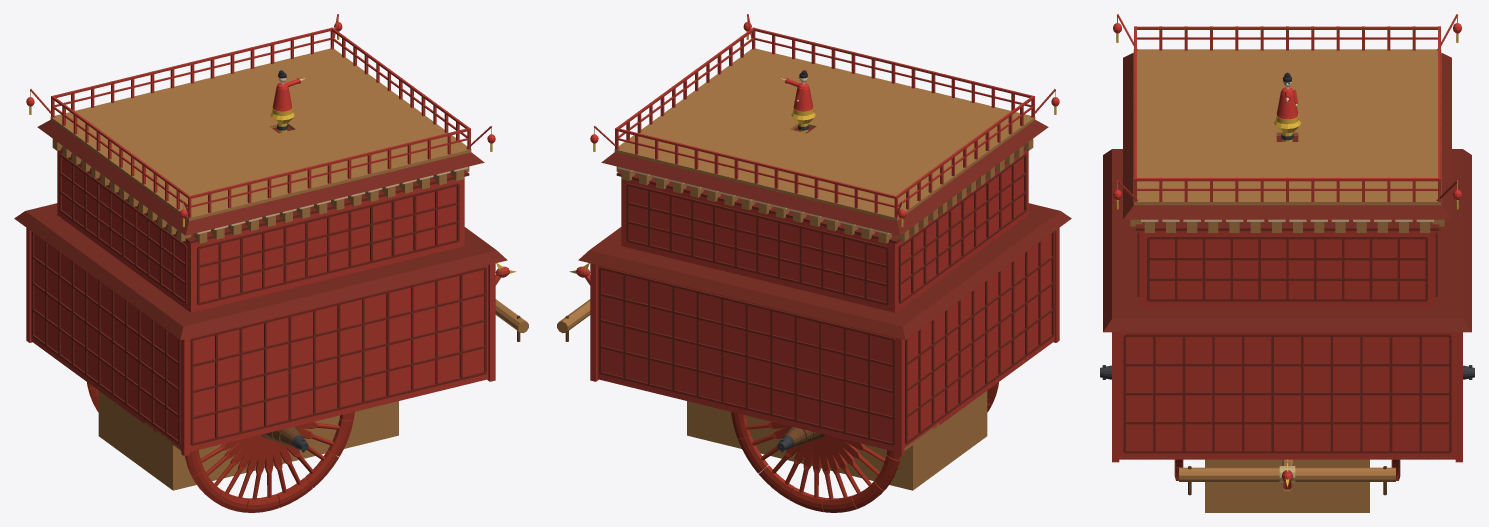
Rendered from chariot-song.glb.
The picture shows the model from 3 angles, left to right: view 1: azimuth 30°, elevation 25°; view 2: azimuth 150°, elevation 25°; view 3: azimuth 270°, elevation 25°; orthographic projection. The views are drawn at different scales.
Visible parts, largest first — view 1: body.tier, body.top, body.side.R, body.end.B, wheel.R, body.end.F, body.pole, figure; view 2: body.tier, body.top, body.side.L, body.end.B, wheel.L, body.end.F, body.pole, figure; view 3: body.tier, body.end.F, body.top, body.pole, figure.
Part boxes in pixels (x1=…): body.tier: x1=14, y1=120, x2=507, y2=340; body.top: x1=26, y1=14, x2=495, y2=226; body.side.R: x1=144, y1=265, x2=488, y2=489; body.end.B: x1=26, y1=228, x2=189, y2=490; wheel.R: x1=185, y1=412, x2=354, y2=512; body.end.F: x1=396, y1=263, x2=495, y2=435; body.pole: x1=495, y1=263, x2=528, y2=341; figure: x1=272, y1=70, x2=304, y2=115; body.tier: x1=578, y1=120, x2=1071, y2=340; body.top: x1=590, y1=14, x2=1059, y2=226; body.side.L: x1=597, y1=265, x2=939, y2=489; body.end.B: x1=896, y1=228, x2=1059, y2=490; wheel.L: x1=731, y1=412, x2=900, y2=512; body.end.F: x1=590, y1=263, x2=689, y2=435; body.pole: x1=557, y1=263, x2=590, y2=341; figure: x1=781, y1=70, x2=813, y2=115; body.tier: x1=1103, y1=53, x2=1471, y2=332; body.end.F: x1=1112, y1=332, x2=1462, y2=512; body.top: x1=1113, y1=14, x2=1461, y2=209; body.pole: x1=1179, y1=459, x2=1395, y2=495; figure: x1=1276, y1=72, x2=1298, y2=124.
Size of the model in its own units: 14.87 by 13.15 by 10.36.
